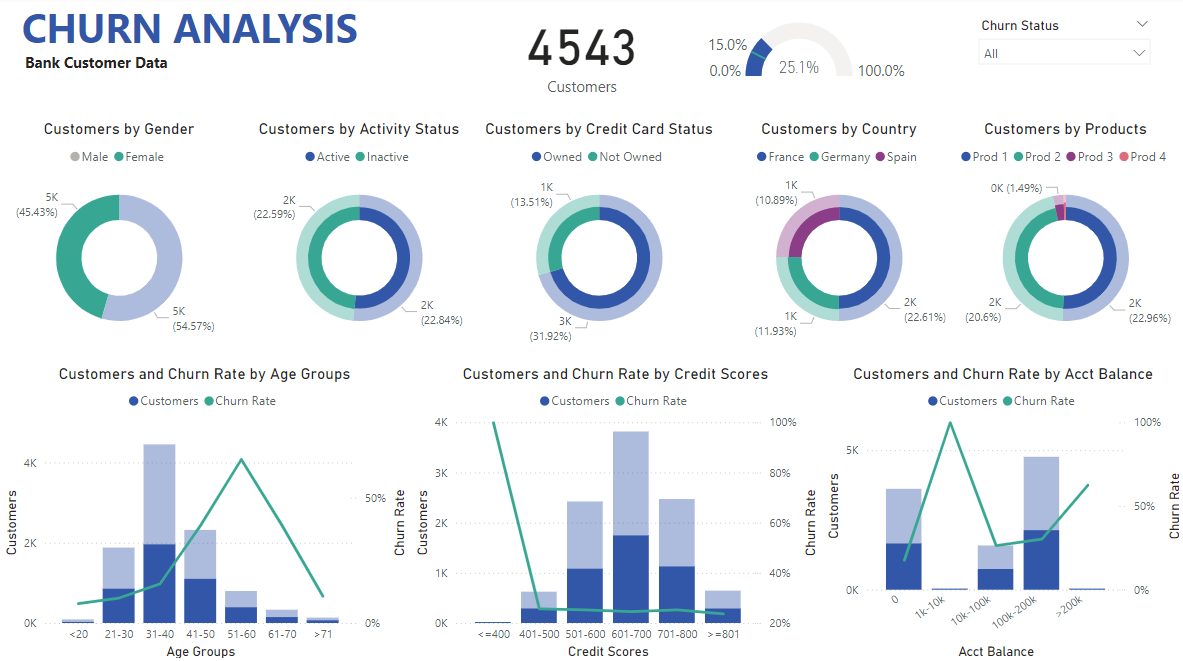

This screenshot's page, from the dashboard's own definition file:
{"tool":"powerbi","page":{"name":"Bank Customer Data Churn Analysis","canvas":[1280,720],"ordinal":0},"visuals":[{"type":"card","fields":{"Values":["Customer Data.Customers"]},"box":[553.8,4.9,150.6,110.1],"z":0},{"type":"donutChart","fields":{"Category":["Customer Data.Gender"],"Y":["Customer Data.Customers"]},"box":[0,134.4,259.1,249.4],"z":1000},{"type":"donutChart","fields":{"Category":["Customer Data.Activity Status"],"Y":["Customer Data.Customers"]},"box":[259.1,134.4,259.1,249.4],"z":2000},{"type":"donutChart","fields":{"Y":["Customer Data.Customers"],"Category":["Customer Data.Credit Card Status"]},"box":[518.2,134.4,259.1,249.4],"z":3000},{"type":"donutChart","fields":{"Y":["Customer Data.Customers"],"Category":["Customer Data.Country"]},"box":[777.2,134.4,259.1,249.4],"z":4000},{"type":"donutChart","fields":{"Y":["Customer Data.Customers"],"Category":["Customer Data.Products"]},"box":[1021.7,134.4,259.1,249.4],"z":5000},{"type":"lineStackedColumnComboChart","fields":{"Y":["Customer Data.Customers"],"Y2":["Customer Data.Churn Rate"],"Category":["Age Groups.Age Groups"]},"box":[0,398.3,443.7,322.2],"z":6000},{"type":"lineStackedColumnComboChart","fields":{"Y":["Customer Data.Customers"],"Y2":["Customer Data.Churn Rate"],"Category":["Credit Score Groups.Credit Scores"]},"box":[443.7,398.3,443.7,322.2],"z":7000},{"type":"lineStackedColumnComboChart","fields":{"Y":["Customer Data.Customers"],"Y2":["Customer Data.Churn Rate"],"Category":["Acct Balance Groups.Acct Balance"]},"box":[887.3,398.3,393.5,322.2],"z":8000},{"type":"slicer","fields":{"Values":["Customer Data.Churn Status"]},"box":[1047.6,19.4,205.6,82.6],"z":9000},{"type":"gauge","fields":{"Y":["Customer Data.Churn Rate"],"MinValue":["Min(Customer Data.Min Churn Rate)"],"MaxValue":["Max(Customer Data.Max Churn Rate)"],"TargetValue":["Min(Customer Data.Target Churn Rate)"]},"box":[722.2,24.3,299.6,72.9],"z":10000},{"type":"textbox","box":[19.4,0,498.7,134.4],"z":11000}]}

Visuals, with their boxes in screenshot pixels (x1, y1, x2, y2), scaled from the page's 1280x720 canvas onto the 1183x661 screenshot:
card - Customer Data.Customers: (x1=512, y1=4, x2=651, y2=106)
donutChart - Customer Data.Gender x Customer Data.Customers: (x1=0, y1=123, x2=239, y2=352)
donutChart - Customer Data.Activity Status x Customer Data.Customers: (x1=239, y1=123, x2=479, y2=352)
donutChart - Customer Data.Customers x Customer Data.Credit Card Status: (x1=479, y1=123, x2=718, y2=352)
donutChart - Customer Data.Customers x Customer Data.Country: (x1=718, y1=123, x2=958, y2=352)
donutChart - Customer Data.Customers x Customer Data.Products: (x1=944, y1=123, x2=1182, y2=352)
lineStackedColumnComboChart - Customer Data.Customers x Customer Data.Churn Rate: (x1=0, y1=366, x2=410, y2=660)
lineStackedColumnComboChart - Customer Data.Customers x Customer Data.Churn Rate: (x1=410, y1=366, x2=820, y2=660)
lineStackedColumnComboChart - Customer Data.Customers x Customer Data.Churn Rate: (x1=820, y1=366, x2=1182, y2=660)
slicer - Customer Data.Churn Status: (x1=968, y1=18, x2=1158, y2=94)
gauge - Customer Data.Churn Rate x Min(Customer Data.Min Churn Rate): (x1=667, y1=22, x2=944, y2=89)
textbox: (x1=18, y1=0, x2=479, y2=123)
